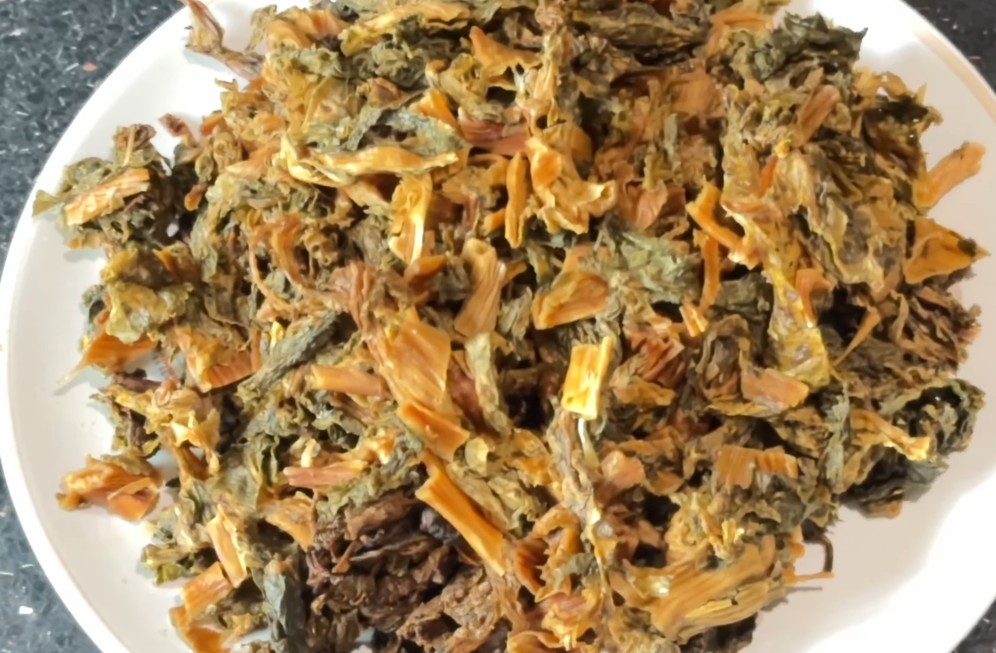gundruk: (143, 4, 914, 631)
